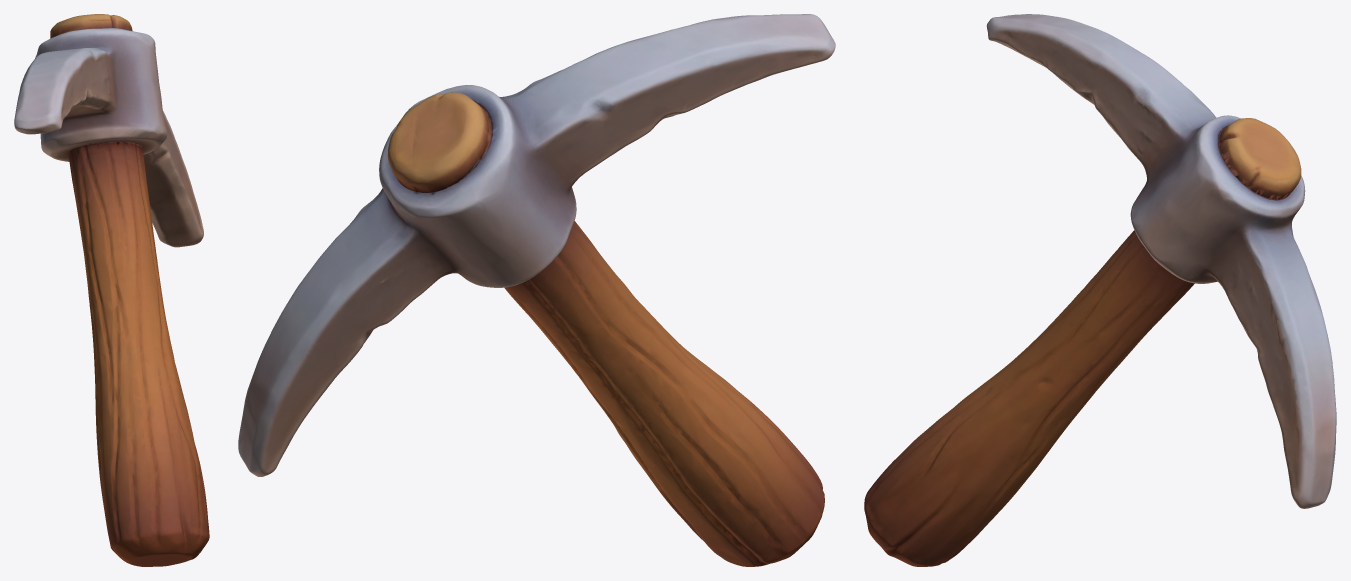
Rendered from pickaxe-seg.glb.
3 views of the same model, side by side, from view 1: azimuth 30°, elevation 25°; view 2: azimuth 150°, elevation 25°; view 3: azimuth 270°, elevation 25° (orthographic). The views are drawn at different scales.
Visible parts, largest first — view 1: tripo_part_0, tripo_part_2, tripo_part_1, tripo_part_4, tripo_part_3; view 2: tripo_part_0, tripo_part_1, tripo_part_4, tripo_part_2, tripo_part_3; view 3: tripo_part_0, tripo_part_4, tripo_part_1, tripo_part_2, tripo_part_3.
Boxes of the visible parts, bbox=[...] form: tripo_part_0: bbox=[68, 142, 209, 566]; tripo_part_2: bbox=[35, 26, 167, 161]; tripo_part_1: bbox=[14, 43, 117, 134]; tripo_part_4: bbox=[109, 61, 203, 247]; tripo_part_3: bbox=[50, 14, 132, 38]; tripo_part_0: bbox=[504, 221, 824, 566]; tripo_part_1: bbox=[504, 14, 835, 189]; tripo_part_4: bbox=[238, 159, 457, 476]; tripo_part_2: bbox=[379, 85, 576, 287]; tripo_part_3: bbox=[387, 92, 496, 199]; tripo_part_0: bbox=[864, 230, 1194, 566]; tripo_part_4: bbox=[1206, 208, 1336, 508]; tripo_part_1: bbox=[986, 14, 1216, 176]; tripo_part_2: bbox=[1130, 115, 1305, 283]; tripo_part_3: bbox=[1218, 118, 1301, 202].
Bounding box in the file's own units: 0.7218 × 1 × 0.8388.
5 materials, 5 textured.
